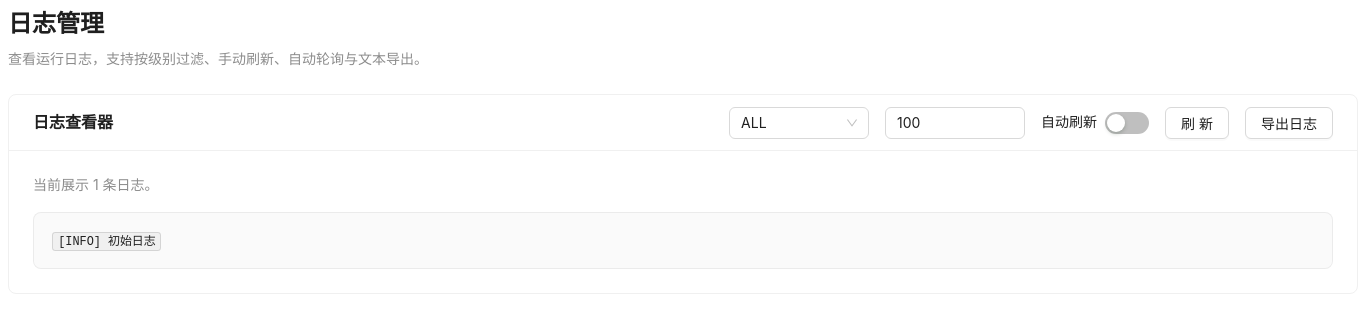
Test: LogsPage family › refetches logs when the refresh button is clicked
The image size is (1366, 311).
Expected: the text "[INFO] 初始日志" is shown, [52,232,161,251]
Click the button "刷 新".
click(1197, 122)  # box [1165,106,1229,138]
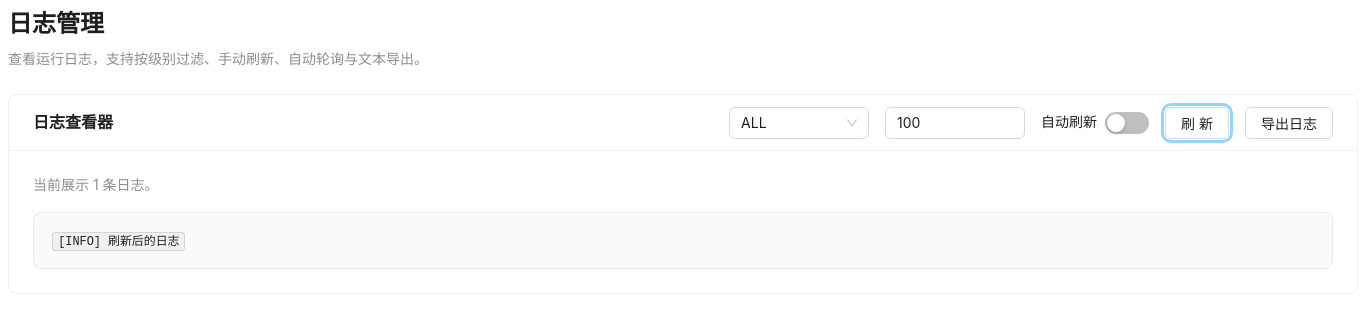
Result: the text "[INFO] 刷新后的日志" is shown at [52,232,185,251]
